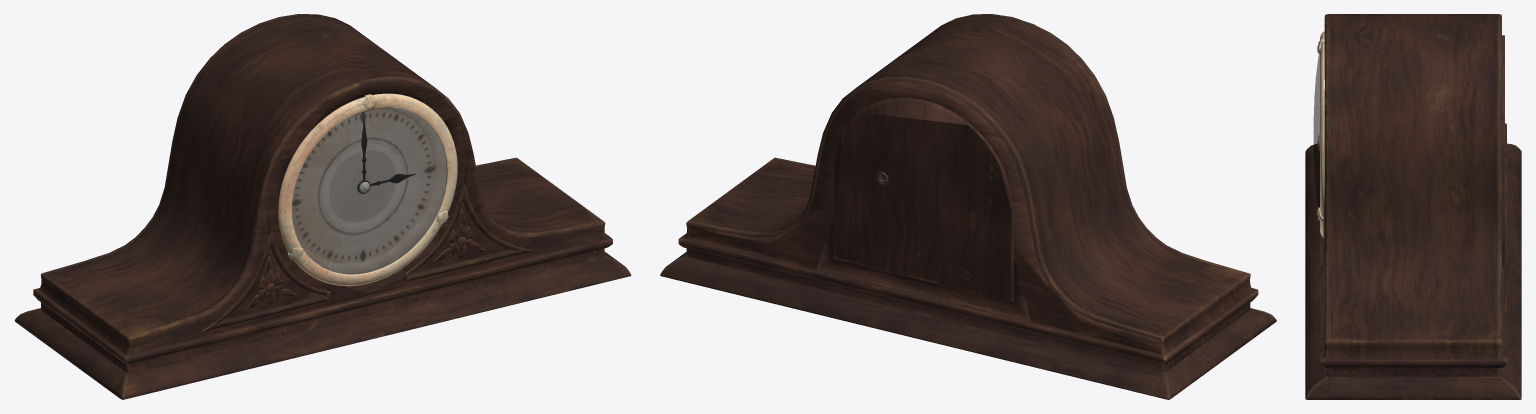
Rendered from mantel_clock.glb.
3 renders of one model, left to right at view 1: azimuth 30°, elevation 25°; view 2: azimuth 150°, elevation 25°; view 3: azimuth 270°, elevation 25°, orthographic.
Parts seen in each view (by area): view 1: mantel_clock_01, mantel_clock_01_glass; view 2: mantel_clock_01; view 3: mantel_clock_01, mantel_clock_01_glass.
Part boxes in pixels (x1,y1,x2,y2): mantel_clock_01: [14, 14, 631, 399]; mantel_clock_01_glass: [292, 107, 446, 274]; mantel_clock_01: [660, 14, 1276, 399]; mantel_clock_01: [1305, 14, 1521, 399]; mantel_clock_01_glass: [1313, 53, 1319, 207].
Size of the model in its own units: 0.3424 by 0.1605 by 0.1262.
2 materials, 2 textured.
